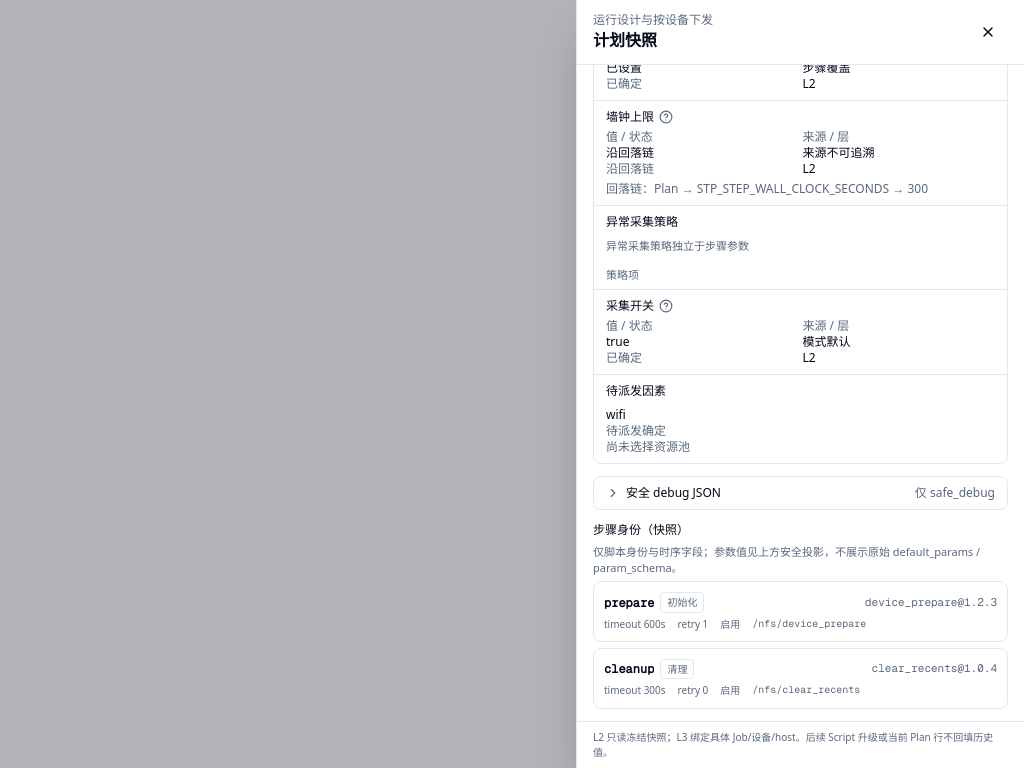
Test: PlanSnapshotDrawer › 不渲染原始 default_params / param_schema / watcher JSON；敏感清单与 safe JSON 同掩码
(page scrolled)
Expected: the text with test id "parameter-value" reads "已设置", [606, 65, 642, 76]
What coordinates should you click on to do the following:
click the button with test id "snapshot-safe-debug-toggle"
I would click on:
 (673, 493)
Its box is [594, 477, 1007, 509].
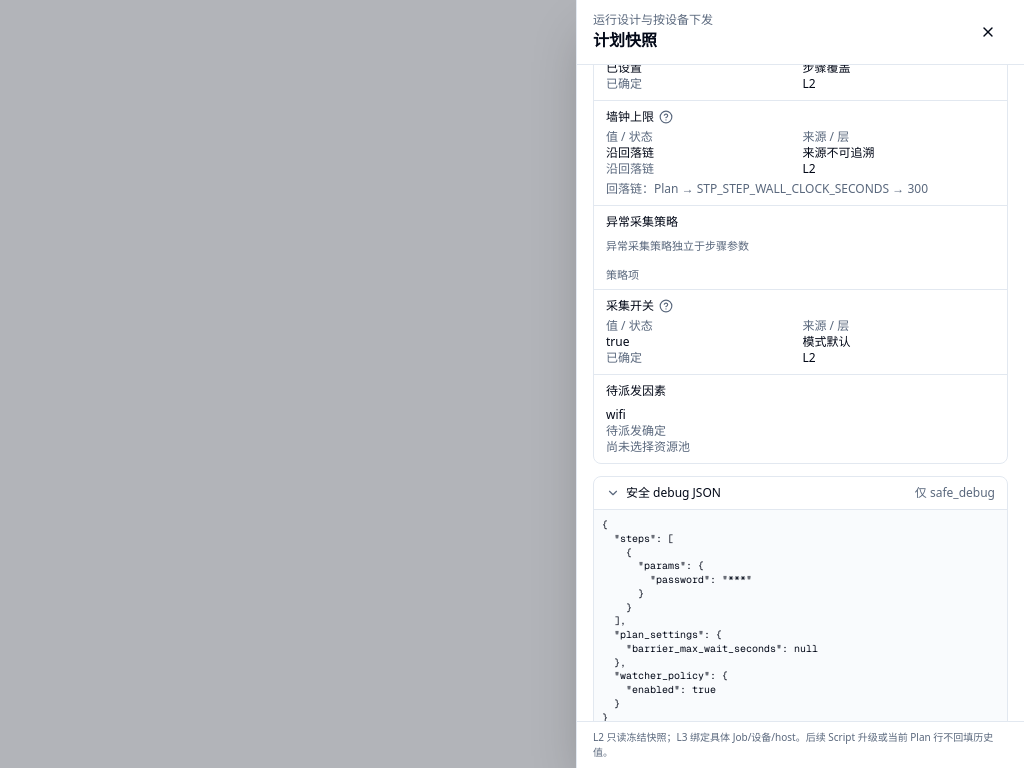
Expected: the text with test id "snapshot-safe-debug-body" does not show "SHOULD_NOT_RENDER", [594, 509, 1007, 721]
Expected: the text with test id "snapshot-safe-debug-body" shows "\"password\": \"***\"", [602, 518, 818, 721]
